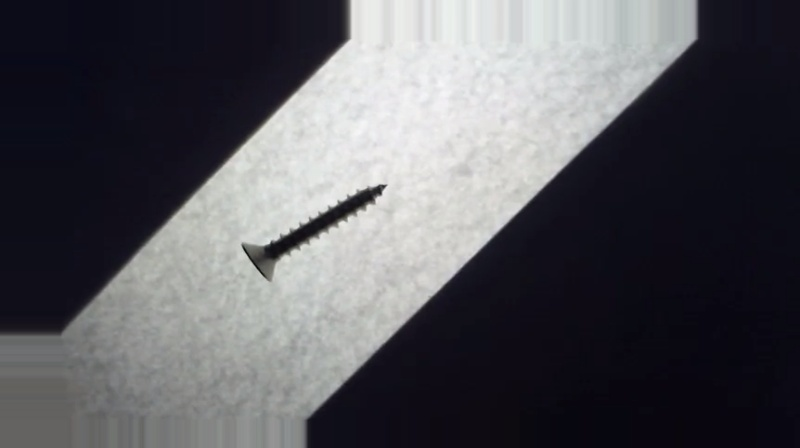S001: (236, 179, 389, 285)
